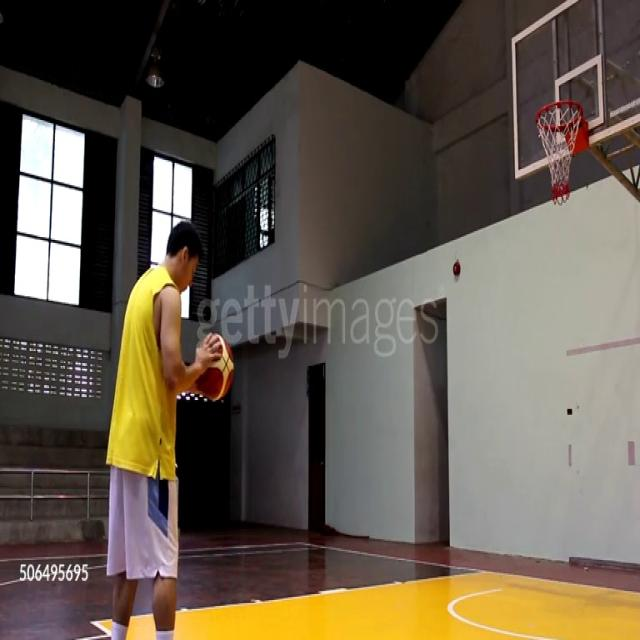ball: (196, 334, 234, 402)
